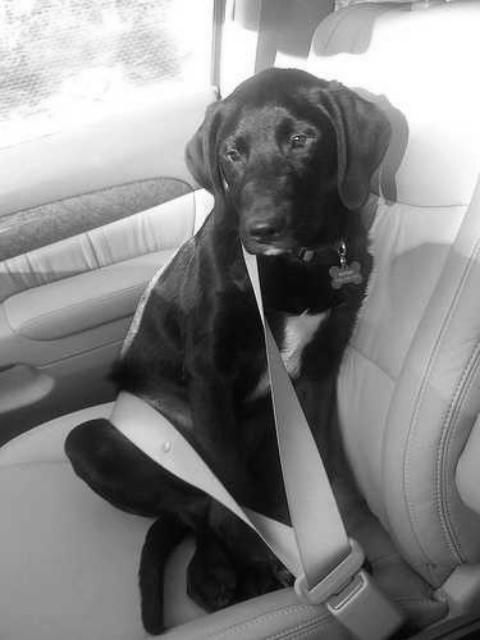Seatbelt: (104, 238, 360, 600)
